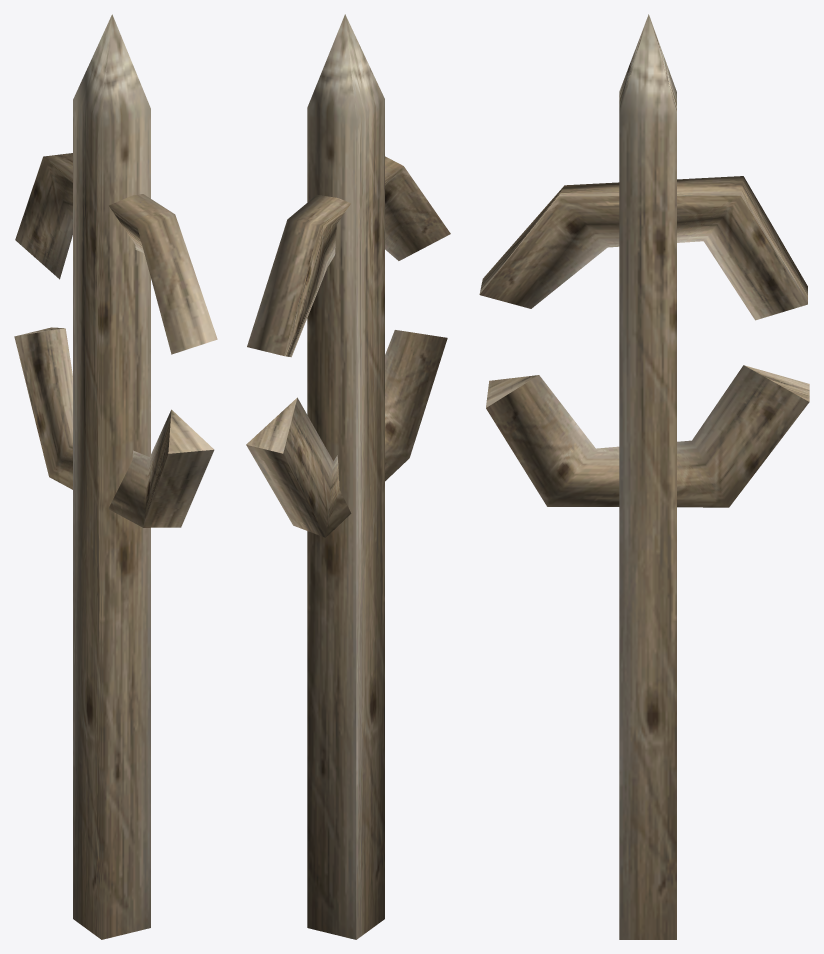
Rendered from woodcross01.obj.
3 views of the same model, side by side, from view 1: azimuth 30°, elevation 25°; view 2: azimuth 150°, elevation 25°; view 3: azimuth 270°, elevation 25° (orthographic).
Visible parts, largest first — view 1: woodcross01; view 2: woodcross01; view 3: woodcross01.
Boxes of the visible parts, x1,y1,x2,y2 form: woodcross01: (14,14,217,939); woodcross01: (246,14,450,939); woodcross01: (479,14,809,939).
Bounding box in the file's own units: 0.131 × 2.31 × 0.7567.
Materials: 1 (1 with a texture image).
